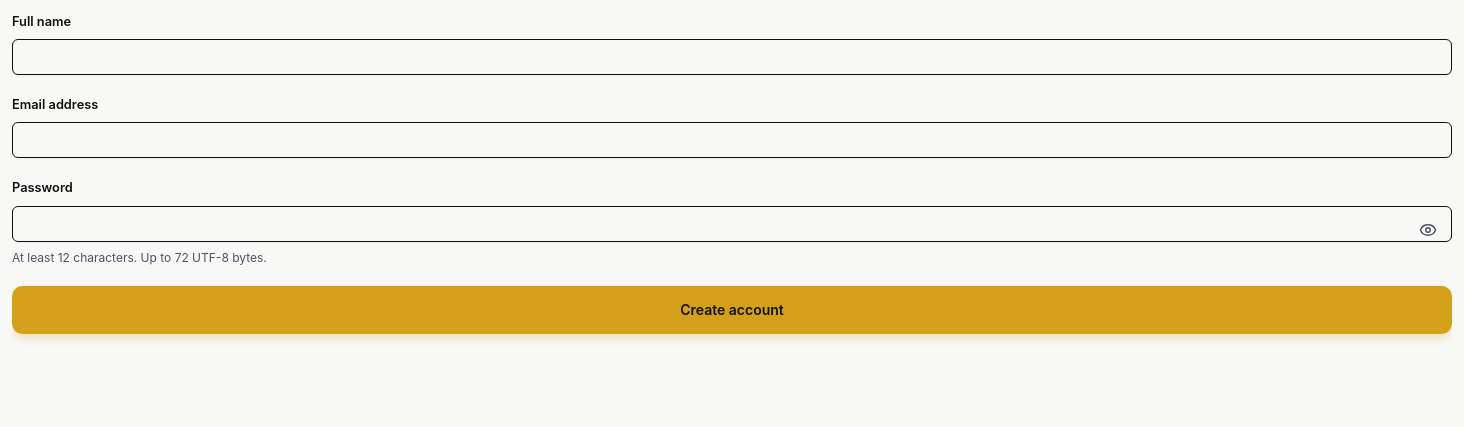
authentication form feedback (server and Auth.js transport mocked) › shows the same generic registration result without echoing a password
This screenshot has width=1464, height=427.
Type "Owner" into the field labelled "Full name" at point(732, 57), box [12, 39, 1452, 75]
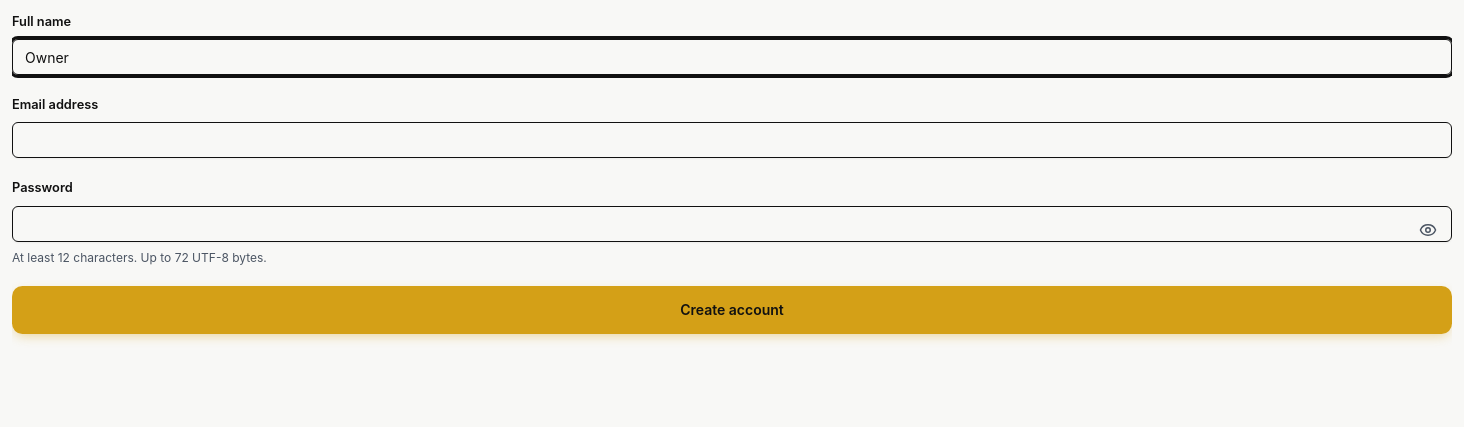
Type "owner@example.com" into the field labelled "Email address" at point(732, 140), box [12, 122, 1452, 158]
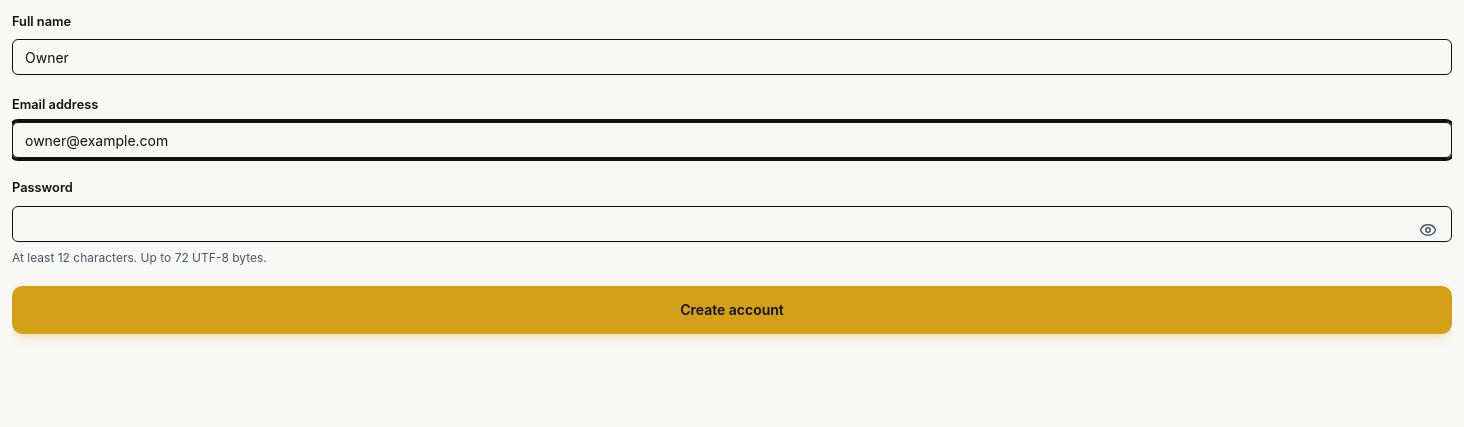
Type "a strong password" into the password field labelled "Password" at point(732, 224), box [12, 206, 1452, 242]
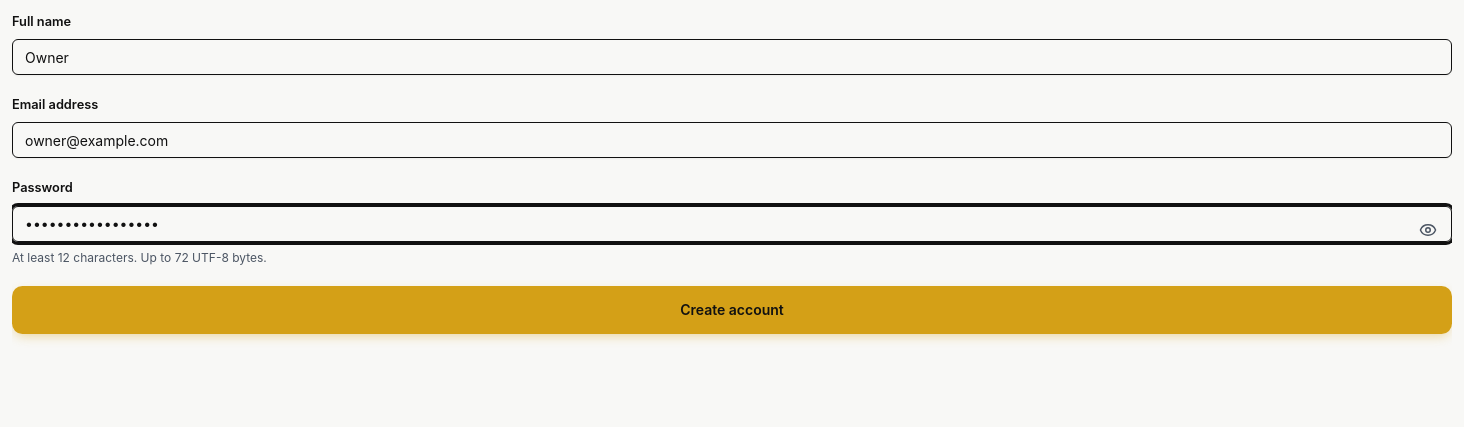
Click the button "Create account" at point(732, 310), box [12, 286, 1452, 334]
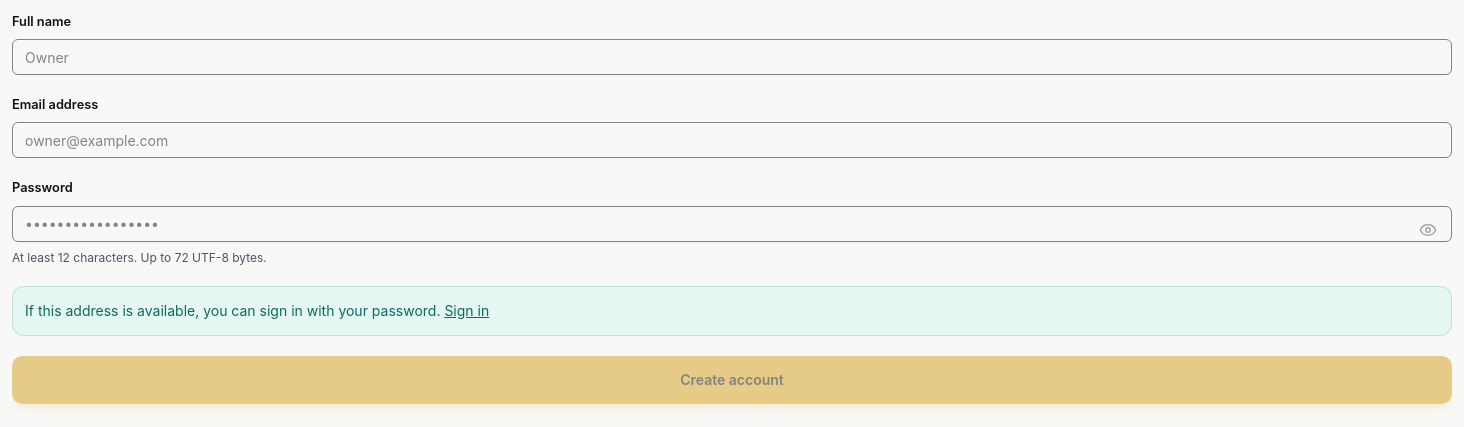
Now the message shows "If this address is available, you can sign in with your password.", box [25, 302, 440, 319]
